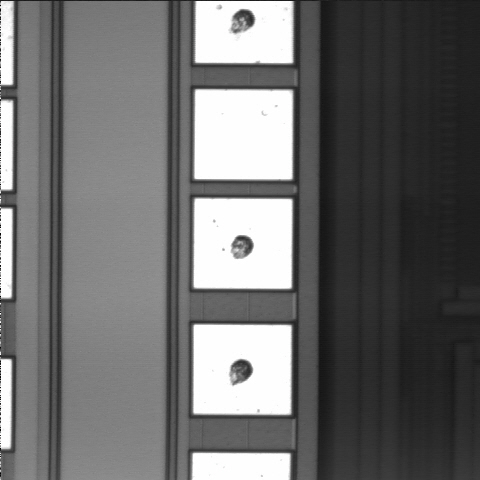pad: (194, 199, 292, 289), (193, 325, 291, 415), (194, 90, 293, 179)
